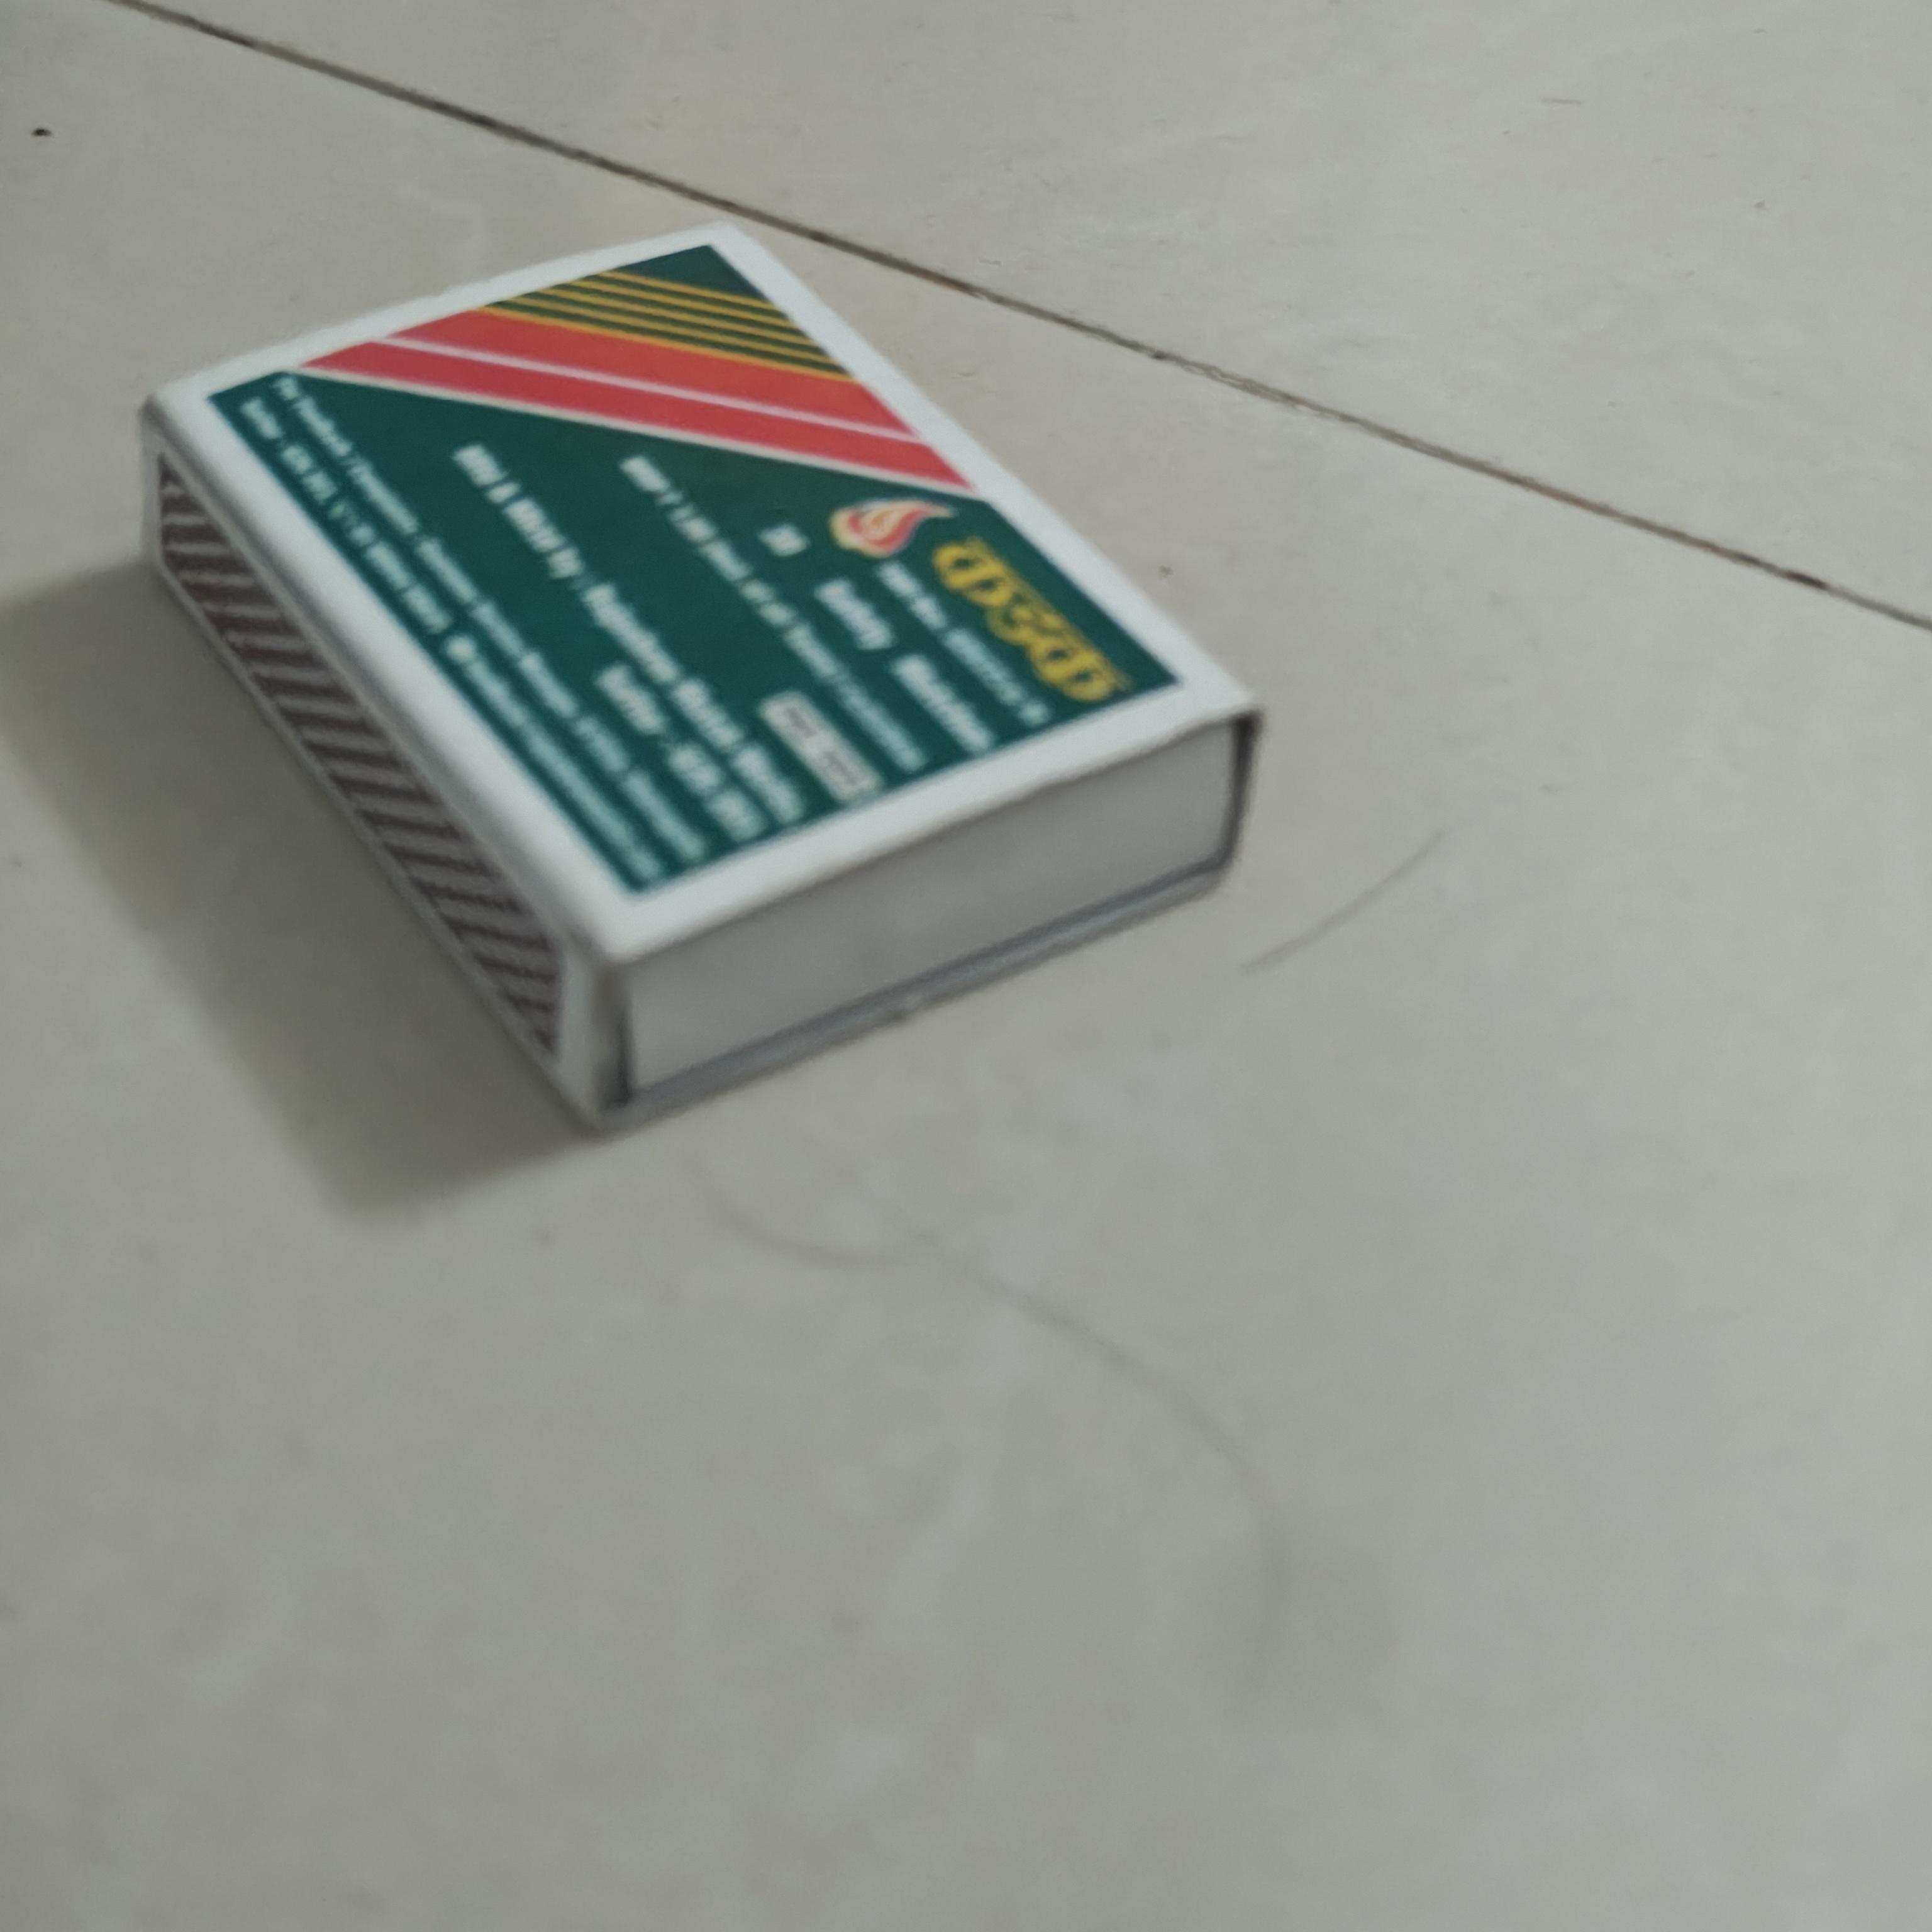garbage: (145, 226, 1253, 1120)
